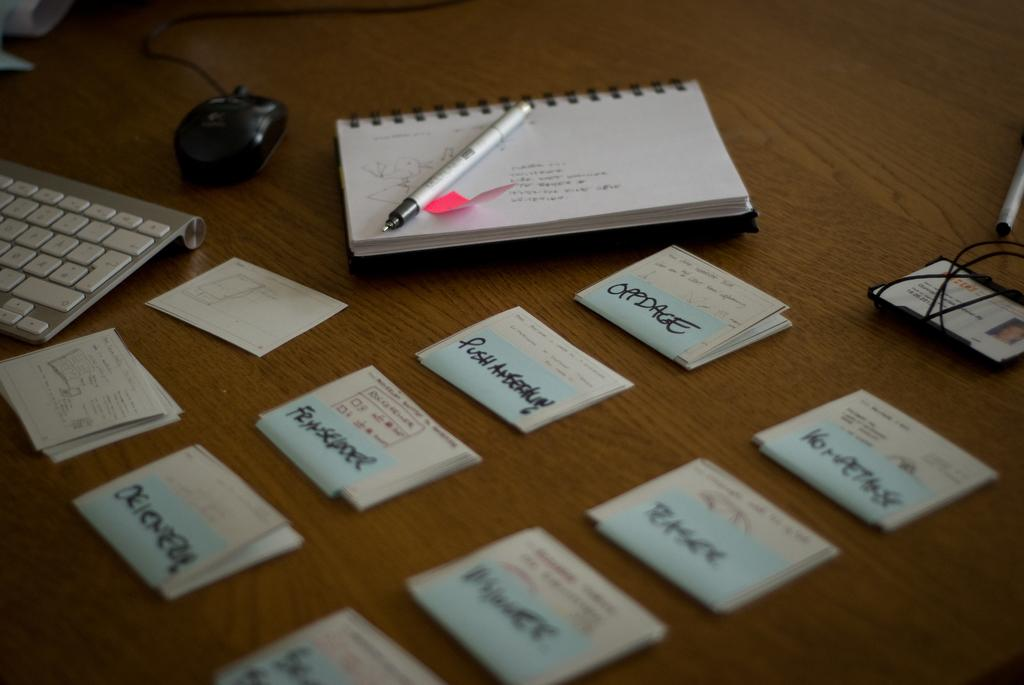Computer-mouse: (173, 82, 290, 184)
